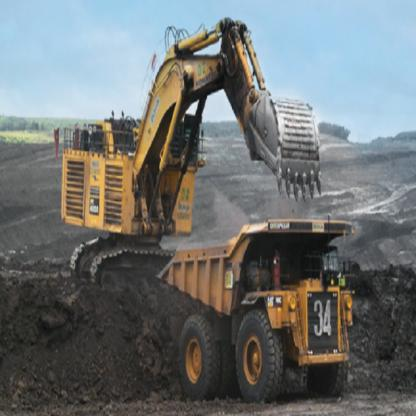dump_truck: (164, 213, 362, 405)
excavator: (43, 12, 334, 291)
